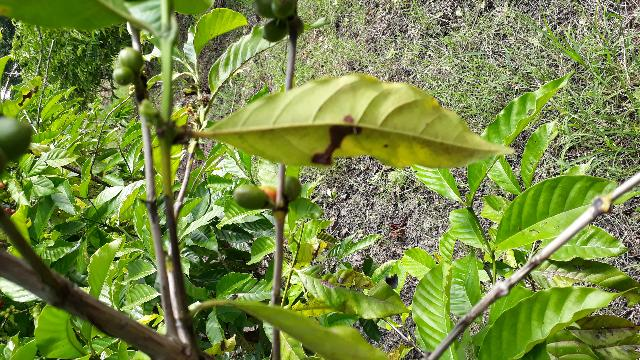red_spider_mite: (207, 73, 516, 166)
